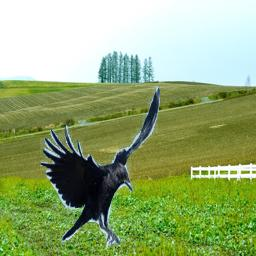Crow: (40, 84, 160, 246)
